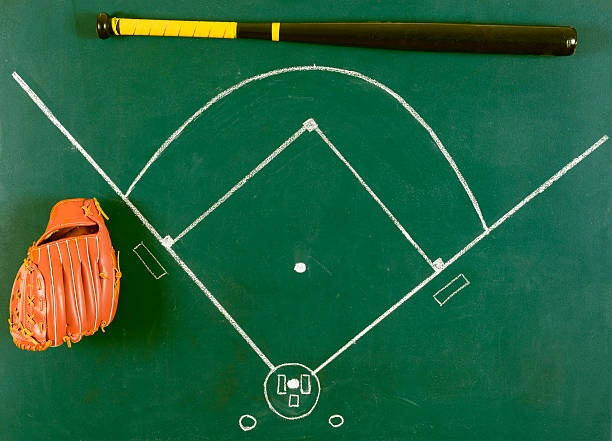bita: (96, 12, 580, 51)
